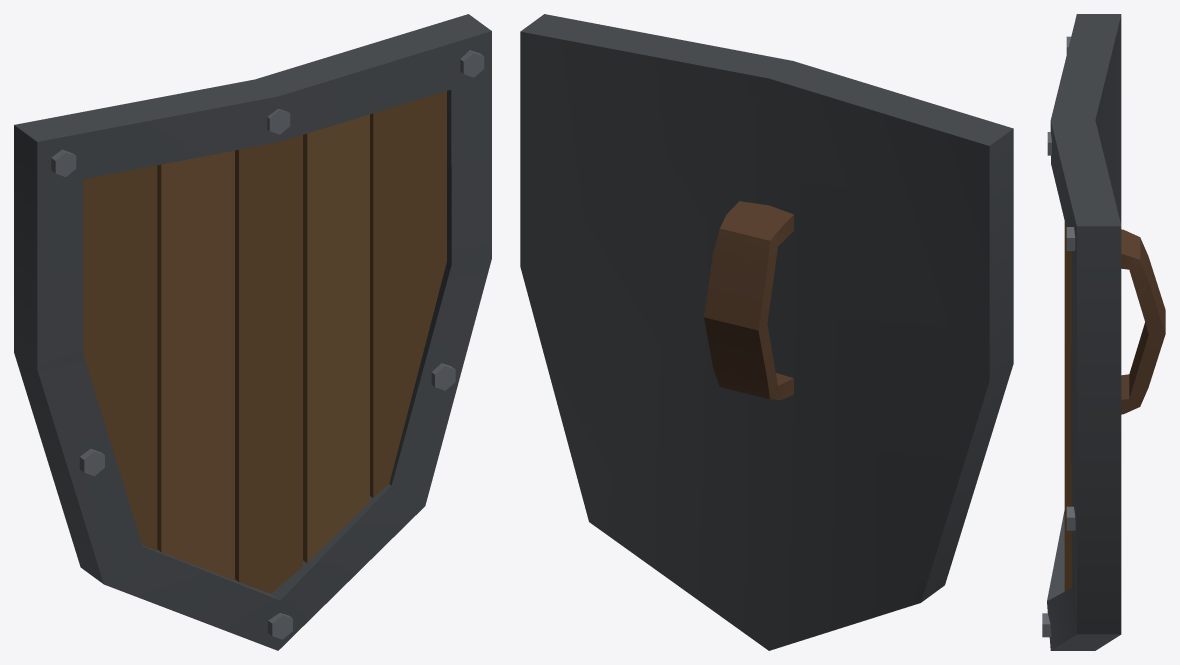
The model's file is Shield_01.fbx.
The picture shows the model from 3 angles, left to right: view 1: azimuth 30°, elevation 25°; view 2: azimuth 150°, elevation 25°; view 3: azimuth 270°, elevation 25°; orthographic projection. The views are drawn at different scales.
Parts seen in each view (by area): view 1: Shield_01_LOD0; view 2: Shield_01_LOD0; view 3: Shield_01_LOD0.
Boxes of the visible parts, <box> form: Shield_01_LOD0: <box>14,14,491,650</box>; Shield_01_LOD0: <box>520,14,1013,650</box>; Shield_01_LOD0: <box>1042,14,1165,650</box>.
Size of what is drawn, in the model's own units: 0.6539 by 0.7622 by 0.1602.
